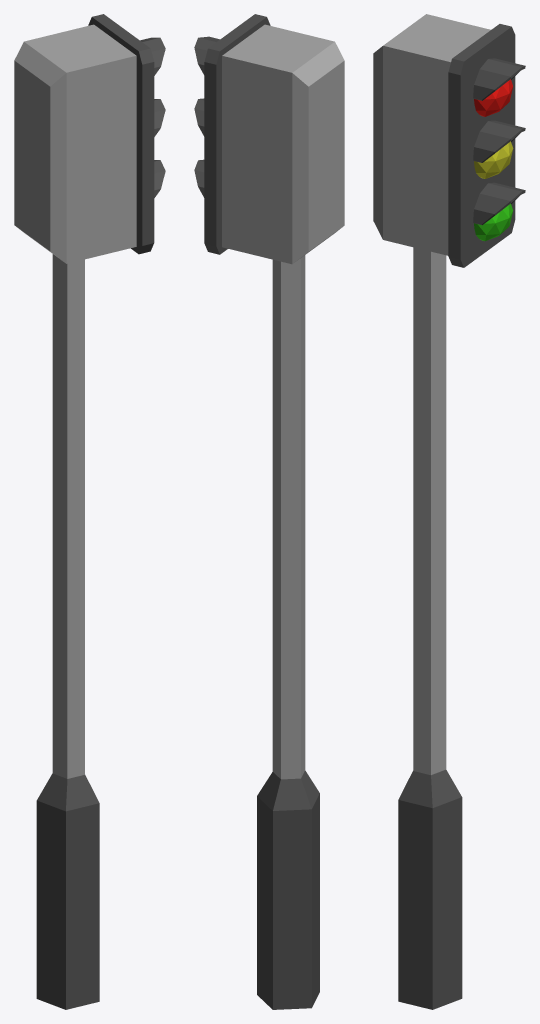
Rendered from prop_TrafficLight.glb.
3 renders of one model, left to right at view 1: azimuth 30°, elevation 25°; view 2: azimuth 150°, elevation 25°; view 3: azimuth 330°, elevation 25°, orthographic.
Parts seen in each view (by area): view 1: TrafficLight; view 2: TrafficLight; view 3: TrafficLight.
Part boxes in pixels (box(x1,y1,x2,y2)): TrafficLight: box(14, 14, 165, 1009); TrafficLight: box(194, 14, 344, 1009); TrafficLight: box(373, 14, 525, 1009).
Size of the model in its own units: 0.7344 by 5.2 by 0.5351.
Materials: 1 (1 with a texture image).
